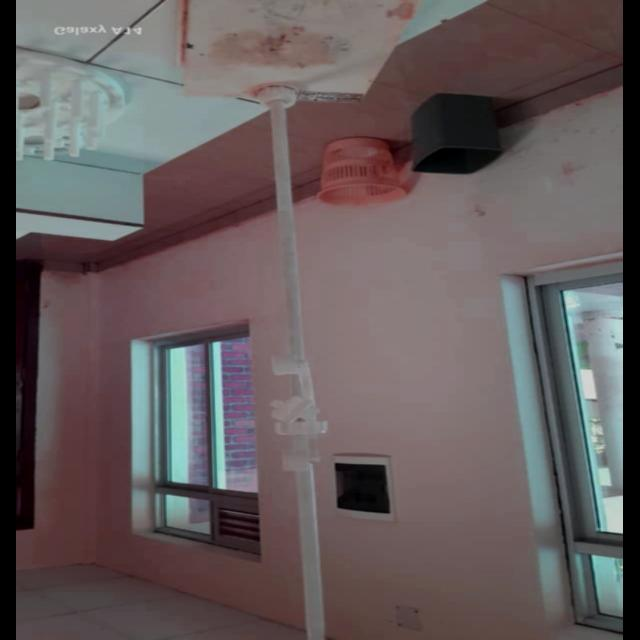Stand: (184, 17, 406, 632)
